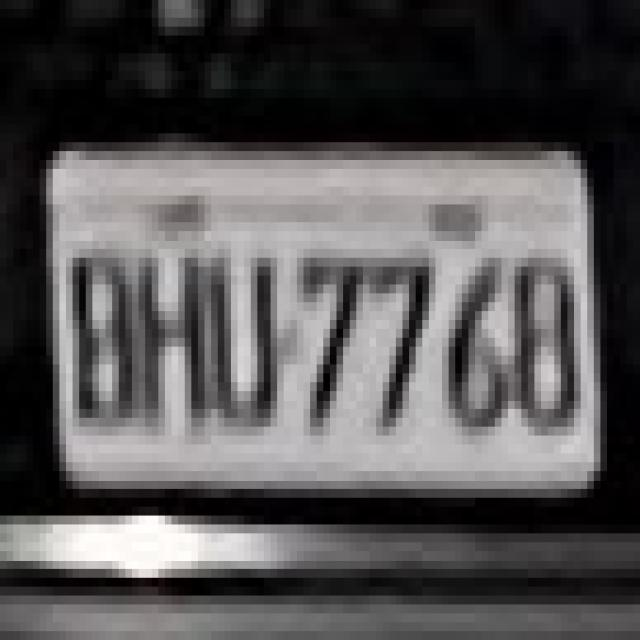license-plate: (47, 142, 601, 499)
